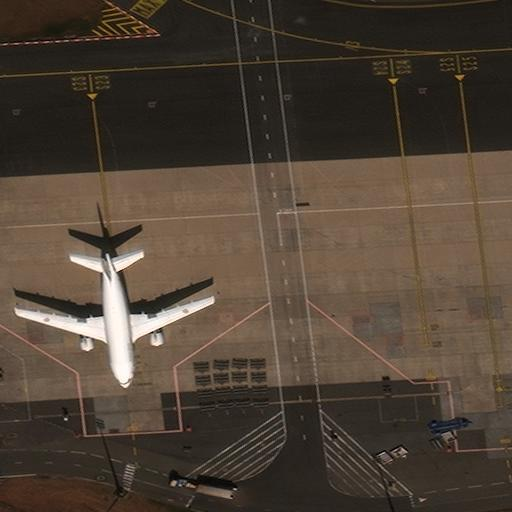Large Civil Transport: (15, 253, 214, 388)
